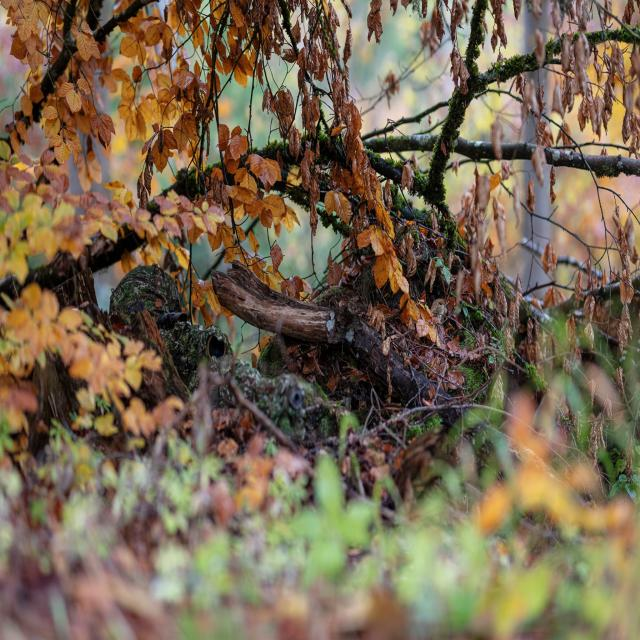Camouflage: (110, 266, 230, 378)
